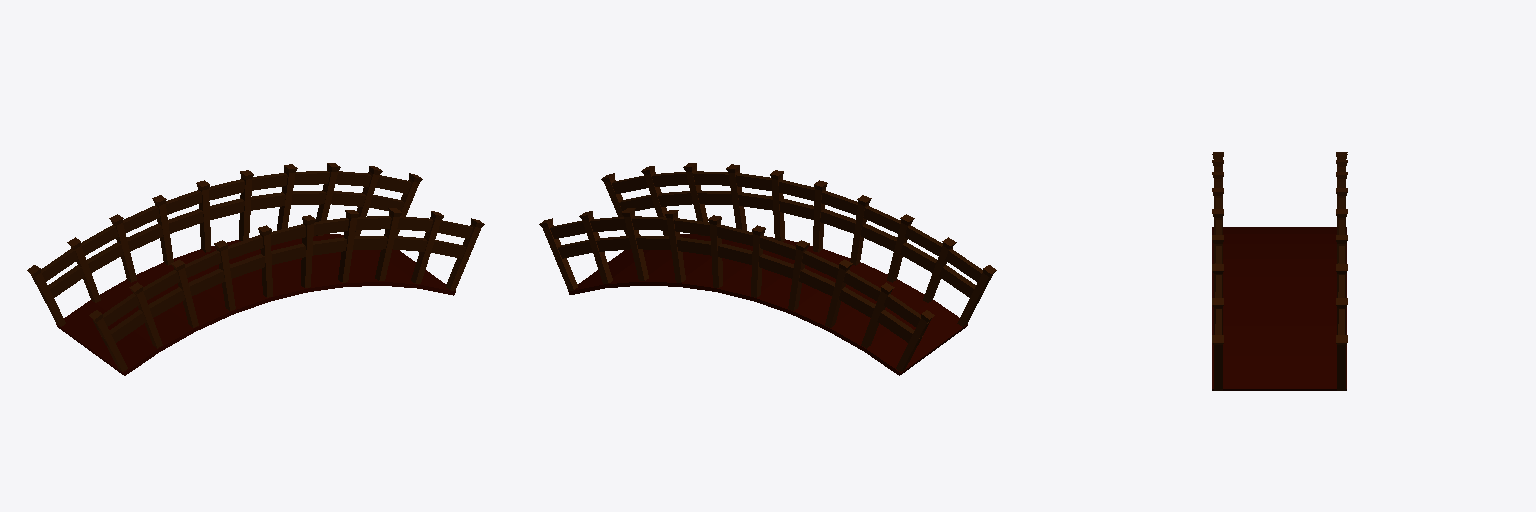
File: Bridge.obj
3 renders of one model, left to right at view 1: azimuth 30°, elevation 25°; view 2: azimuth 150°, elevation 25°; view 3: azimuth 270°, elevation 25°, orthographic.
Parts seen in each view (by area): view 1: HANDLES, polySurface24 BRIDGE, POLES; view 2: HANDLES, polySurface24 BRIDGE, POLES; view 3: polySurface24 BRIDGE, POLES, HANDLES.
Boxes of the visible parts, x1=… form: HANDLES: x1=32, y1=171, x2=472, y2=346; polySurface24 BRIDGE: x1=56, y1=234, x2=455, y2=375; POLES: x1=27, y1=163, x2=484, y2=371; HANDLES: x1=550, y1=171, x2=991, y2=346; polySurface24 BRIDGE: x1=568, y1=234, x2=967, y2=375; POLES: x1=539, y1=163, x2=996, y2=371; polySurface24 BRIDGE: x1=1212, y1=227, x2=1346, y2=390; POLES: x1=1212, y1=152, x2=1347, y2=390; HANDLES: x1=1215, y1=169, x2=1344, y2=334.
Size of the model in its own units: 20.99 by 5.69 by 6.3.